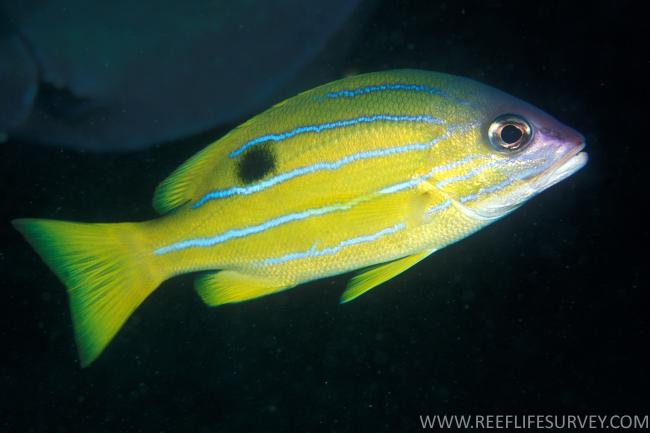fish: (12, 67, 589, 369)
